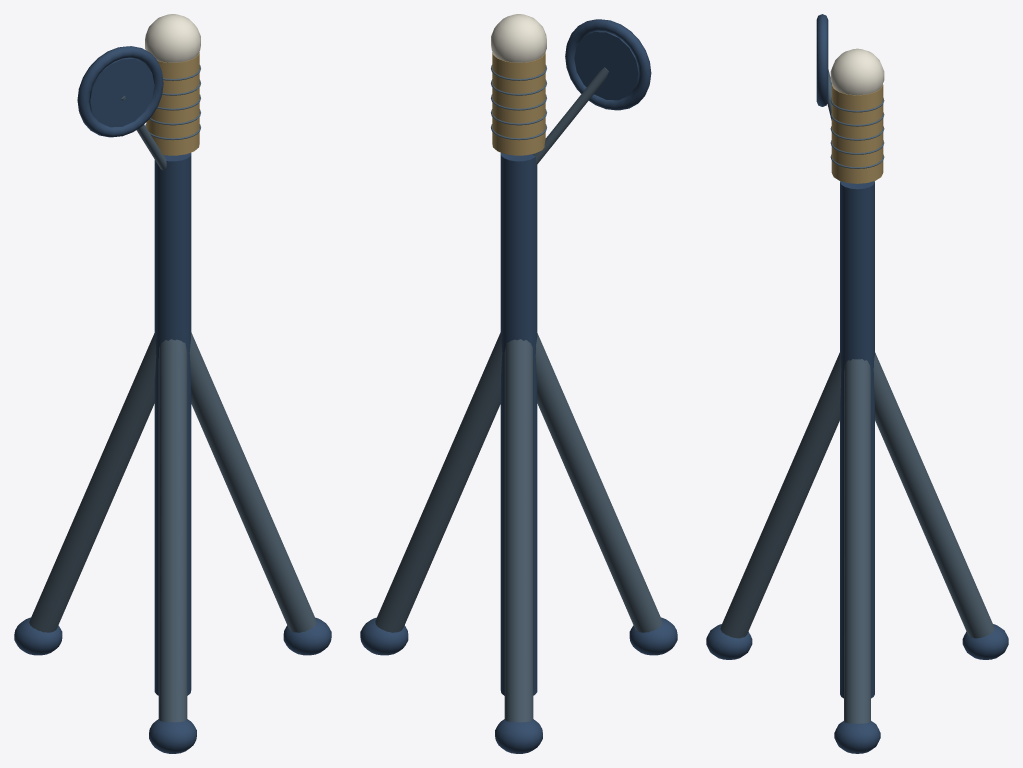
Rendered from v18_special_microphone.glb.
The picture shows the model from 3 angles, left to right: view 1: azimuth 30°, elevation 25°; view 2: azimuth 150°, elevation 25°; view 3: azimuth 270°, elevation 25°; orthographic projection. The views are drawn at different scales.
Visible parts, largest first — view 1: _MeshInstance3D_5747, _MeshInstance3D_5744, _MeshInstance3D_5745, _MeshInstance3D_5749, _MeshInstance3D_5751, _MeshInstance3D_5760, _MeshInstance3D_5759, _MeshInstance3D_5752, _MeshInstance3D_5748, _MeshInstance3D_5746, _MeshInstance3D_5750; view 2: _MeshInstance3D_5749, _MeshInstance3D_5744, _MeshInstance3D_5745, _MeshInstance3D_5747, _MeshInstance3D_5751, _MeshInstance3D_5760, _MeshInstance3D_5759, _MeshInstance3D_5752, _MeshInstance3D_5750, _MeshInstance3D_5746, _MeshInstance3D_5748, _MeshInstance3D_5758; view 3: _MeshInstance3D_5745, _MeshInstance3D_5744, _MeshInstance3D_5747, _MeshInstance3D_5749, _MeshInstance3D_5751, _MeshInstance3D_5752, _MeshInstance3D_5746, _MeshInstance3D_5759, _MeshInstance3D_5748, _MeshInstance3D_5750.
Part boxes in pixels (left/top/right/bottom): _MeshInstance3D_5747: left=158, top=339, right=187, bottom=722; _MeshInstance3D_5744: left=154, top=152, right=191, bottom=695; _MeshInstance3D_5745: left=189, top=332, right=316, bottom=632; _MeshInstance3D_5749: left=29, top=333, right=156, bottom=632; _MeshInstance3D_5751: left=146, top=52, right=199, bottom=155; _MeshInstance3D_5760: left=89, top=57, right=154, bottom=127; _MeshInstance3D_5759: left=77, top=46, right=163, bottom=137; _MeshInstance3D_5752: left=145, top=14, right=200, bottom=62; _MeshInstance3D_5748: left=149, top=719, right=196, bottom=753; _MeshInstance3D_5746: left=283, top=617, right=331, bottom=655; _MeshInstance3D_5750: left=14, top=617, right=62, bottom=655; _MeshInstance3D_5749: left=504, top=339, right=533, bottom=722; _MeshInstance3D_5744: left=500, top=152, right=537, bottom=695; _MeshInstance3D_5745: left=375, top=332, right=502, bottom=632; _MeshInstance3D_5747: left=535, top=333, right=662, bottom=632; _MeshInstance3D_5751: left=492, top=52, right=545, bottom=155; _MeshInstance3D_5760: left=574, top=30, right=639, bottom=100; _MeshInstance3D_5759: left=565, top=19, right=651, bottom=110; _MeshInstance3D_5752: left=491, top=14, right=546, bottom=62; _MeshInstance3D_5750: left=495, top=719, right=542, bottom=753; _MeshInstance3D_5746: left=360, top=617, right=408, bottom=655; _MeshInstance3D_5748: left=629, top=617, right=677, bottom=655; _MeshInstance3D_5758: left=533, top=67, right=608, bottom=164; _MeshInstance3D_5745: left=844, top=359, right=870, bottom=723; _MeshInstance3D_5744: left=840, top=181, right=874, bottom=698; _MeshInstance3D_5747: left=720, top=352, right=841, bottom=638; _MeshInstance3D_5749: left=873, top=352, right=994, bottom=638; _MeshInstance3D_5751: left=831, top=84, right=883, bottom=183; _MeshInstance3D_5752: left=830, top=48, right=884, bottom=95; _MeshInstance3D_5746: left=834, top=721, right=880, bottom=753; _MeshInstance3D_5759: left=816, top=14, right=828, bottom=106; _MeshInstance3D_5748: left=706, top=624, right=752, bottom=659; _MeshInstance3D_5750: left=962, top=624, right=1008, bottom=659.
Bounding box in the file's own units: 0.7507 × 1.8 × 0.7678.
